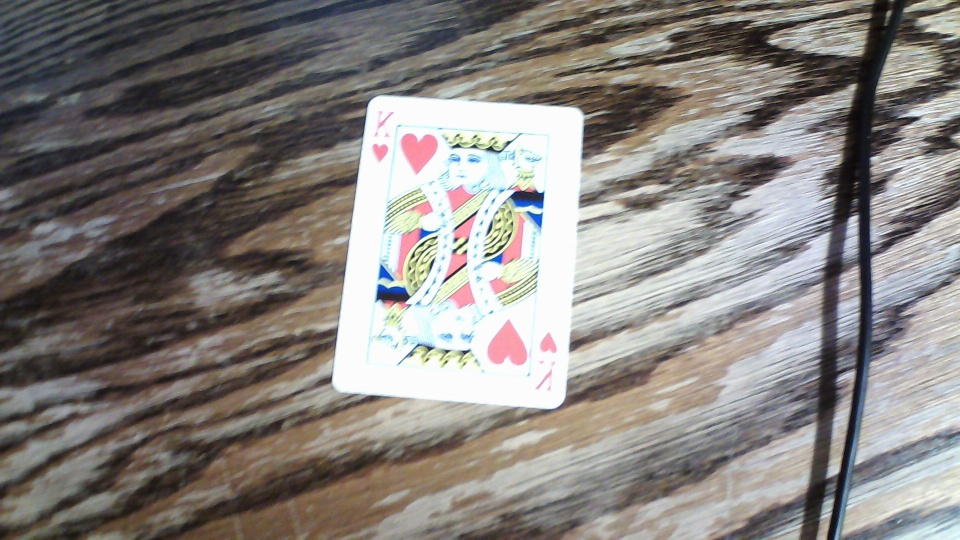king: (329, 94, 584, 410)
